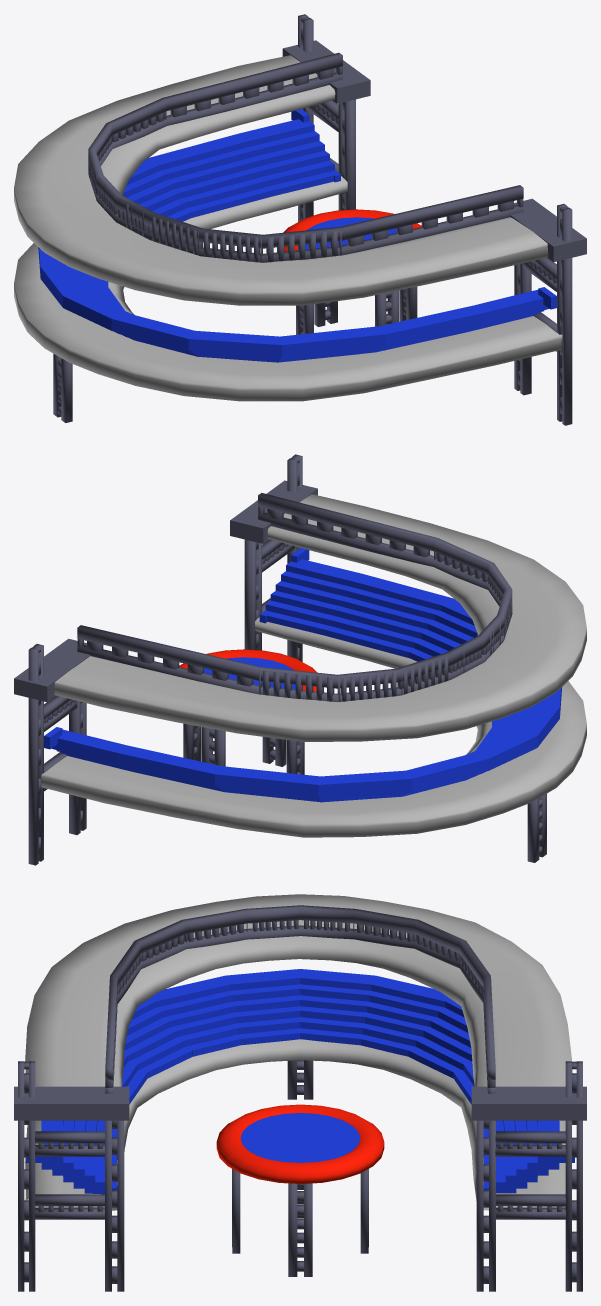
File: arena3.fbx
3 renders of one model, top to bottom at view 1: azimuth 30°, elevation 25°; view 2: azimuth 150°, elevation 25°; view 3: azimuth 270°, elevation 25°, orthographic. The views are drawn at different scales.
Parts seen in each view (by area): view 1: Cube, Cube.001, Cube.004, Cube.002, Cube.008, Cube.003, Torus, Circle; view 2: Cube, Cube.001, Cube.004, Cube.002, Cube.008, Cube.003, Torus, Circle; view 3: Cube, Cube.001, Cube.004, Cube.002, Torus, Circle, Cube.008, Cube.003.
Boxes of the visible parts, x1,y1,x2,y2 form: Cube: (14,55,562,401); Cube.001: (88,14,572,425); Cube.004: (38,109,556,362); Cube.002: (282,40,586,262); Cube.008: (296,286,417,334); Cube.003: (53,353,72,422); Torus: (283,209,421,251); Circle: (305,217,396,249); Cube: (41,494,586,837); Cube.001: (28,454,512,865); Cube.004: (44,548,561,802); Cube.002: (14,480,317,701); Cube.008: (183,723,304,774); Cube.003: (527,793,546,862); Torus: (179,649,316,691); Circle: (204,657,295,689); Cube: (25,894,572,1210); Cube.001: (18,905,582,1291); Cube.004: (26,969,574,1194); Cube.002: (14,1086,586,1120); Torus: (216,1104,384,1183); Circle: (240,1113,360,1162); Cube.008: (232,1169,368,1276); Cube.003: (287,1060,313,1099).
Bounding box in the file's own units: 8540 × 4293 × 9836.
